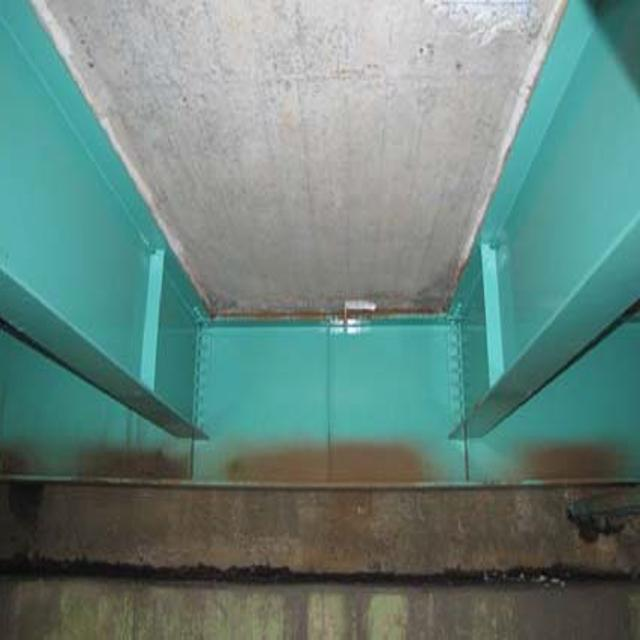corrosion: (24, 431, 640, 583)
